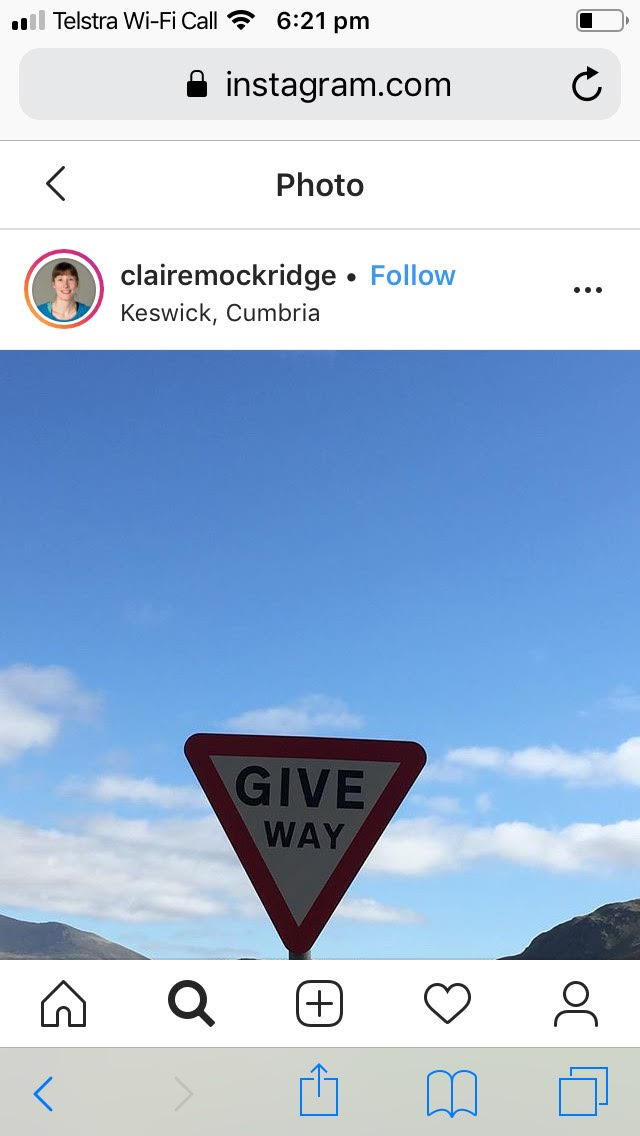giveway: (180, 728, 435, 966), (181, 733, 309, 963), (307, 731, 427, 967), (253, 737, 367, 962), (235, 794, 382, 955), (188, 737, 413, 835)
